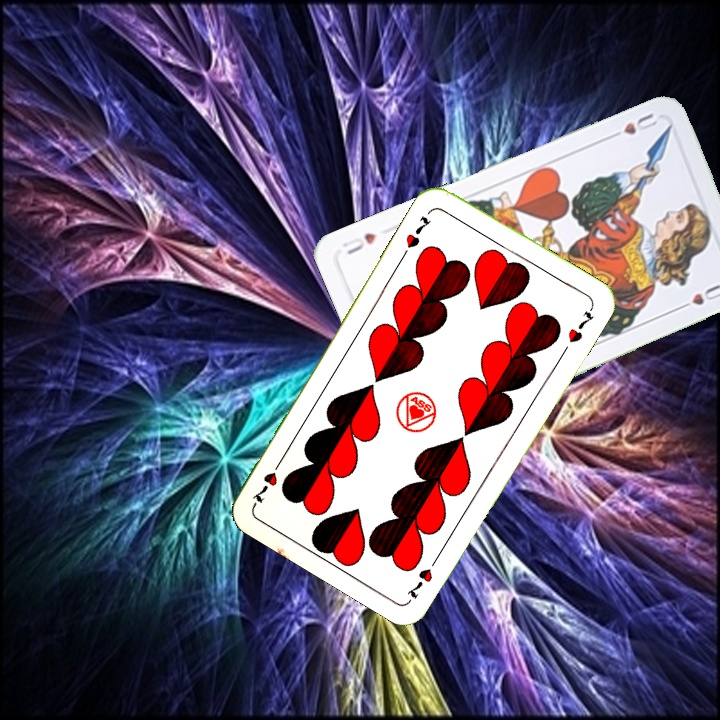H7: (402, 550, 443, 601), (401, 212, 434, 251)
HU: (604, 108, 660, 142)
